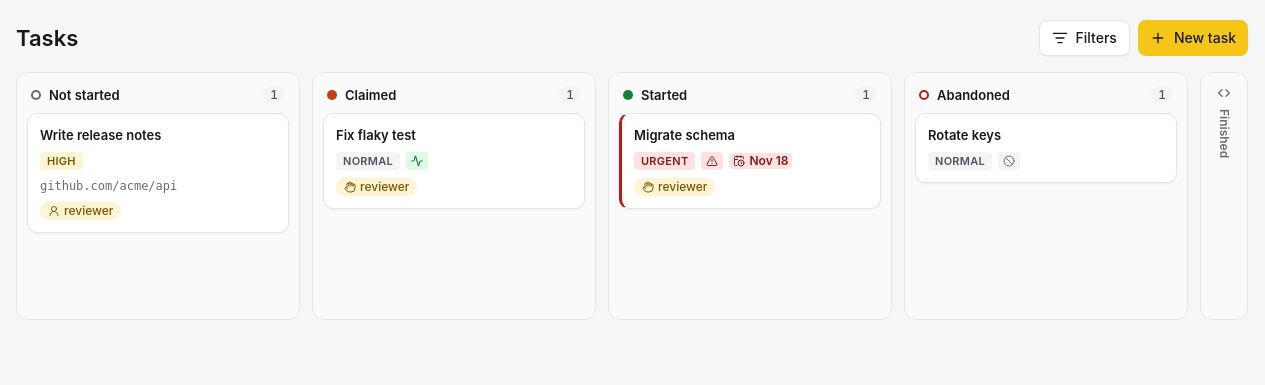
TasksPage mobile filters › hides the filters behind a Filters button on phones
Expected: the button "Write release notes" is shown, [40,126,276,144]
Click the button "Filters". click: (1084, 38)
box: [1039,20,1130,56]
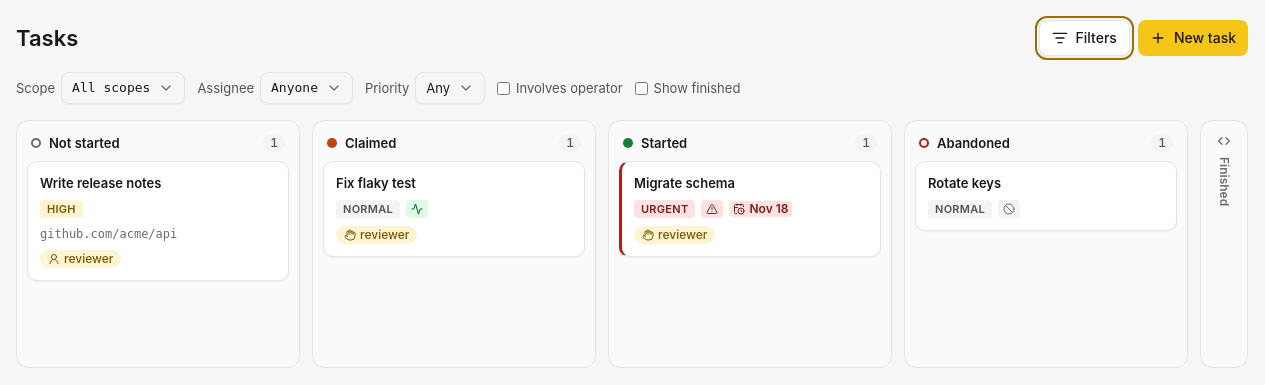
Result: the element named "Task filters" is shown at [16,72,740,104]
Result: the dropdown named "Priority" is shown at [415,72,485,104]
